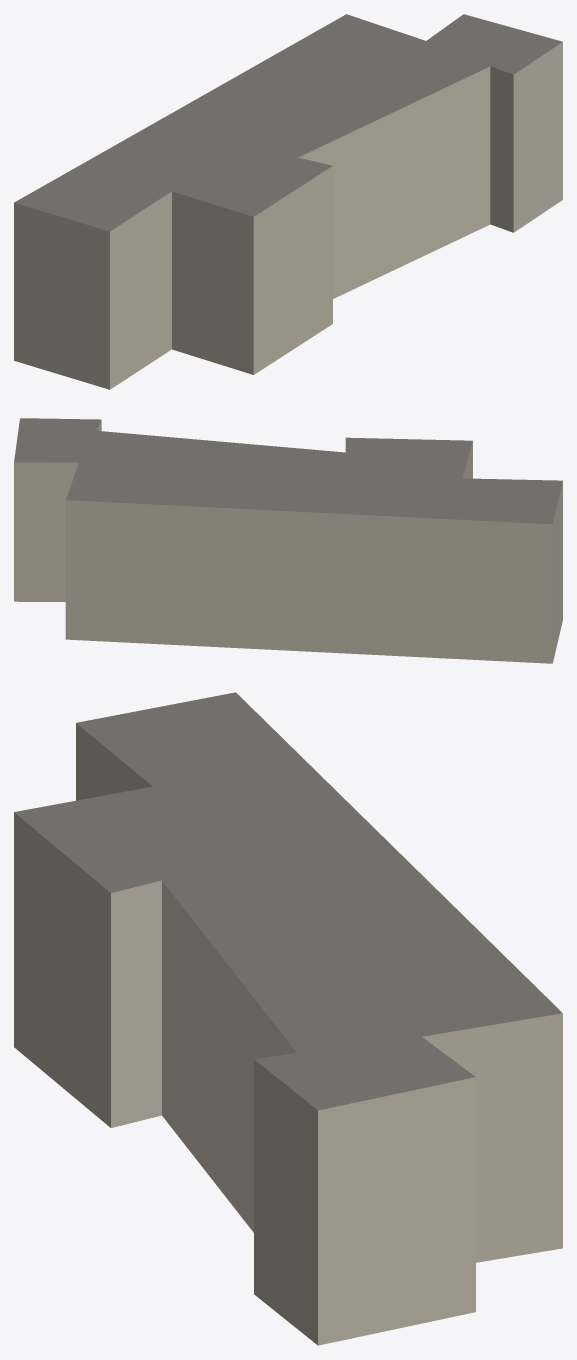
3 renders of one model, top to bottom at view 1: azimuth 30°, elevation 25°; view 2: azimuth 150°, elevation 25°; view 3: azimuth 270°, elevation 25°, orthographic. The views are drawn at different scales.
Parts seen in each view (by area): view 1: HP-w1512359766; view 2: HP-w1512359766; view 3: HP-w1512359766.
Part boxes in pixels (<box>): HP-w1512359766: <box>14,14,562,389</box>; HP-w1512359766: <box>14,418,562,663</box>; HP-w1512359766: <box>14,692,562,1345</box>.
Size of the model in its own units: 68.68 by 18 by 38.1.
